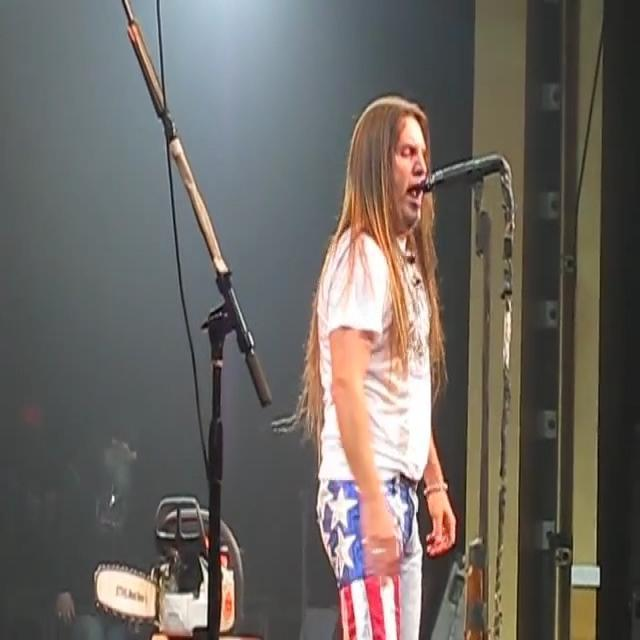Chainsaw: (84, 475, 252, 640)
